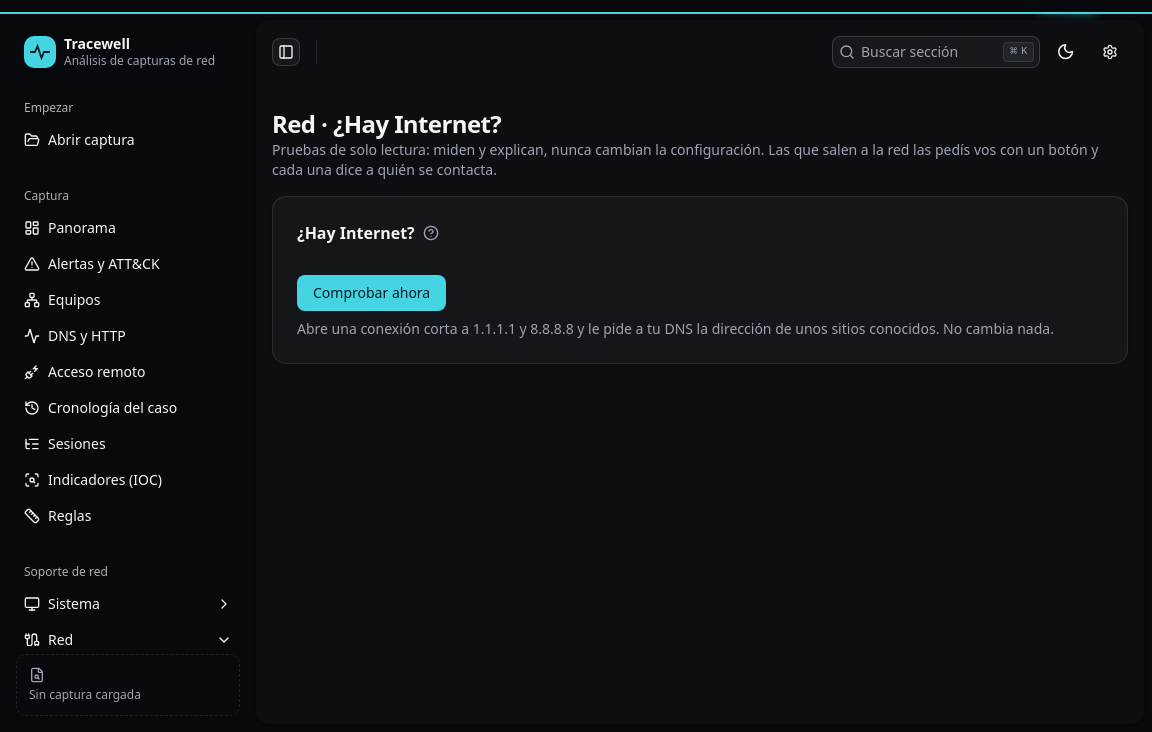
Test: Soporte de red › internet: la prueba corre solo al apretar el botón
Expected: the text "Todo funciona" is not shown
Click the button "Comprobar ahora" at (372, 293), box top-left (297, 275), bottom-right (446, 311)
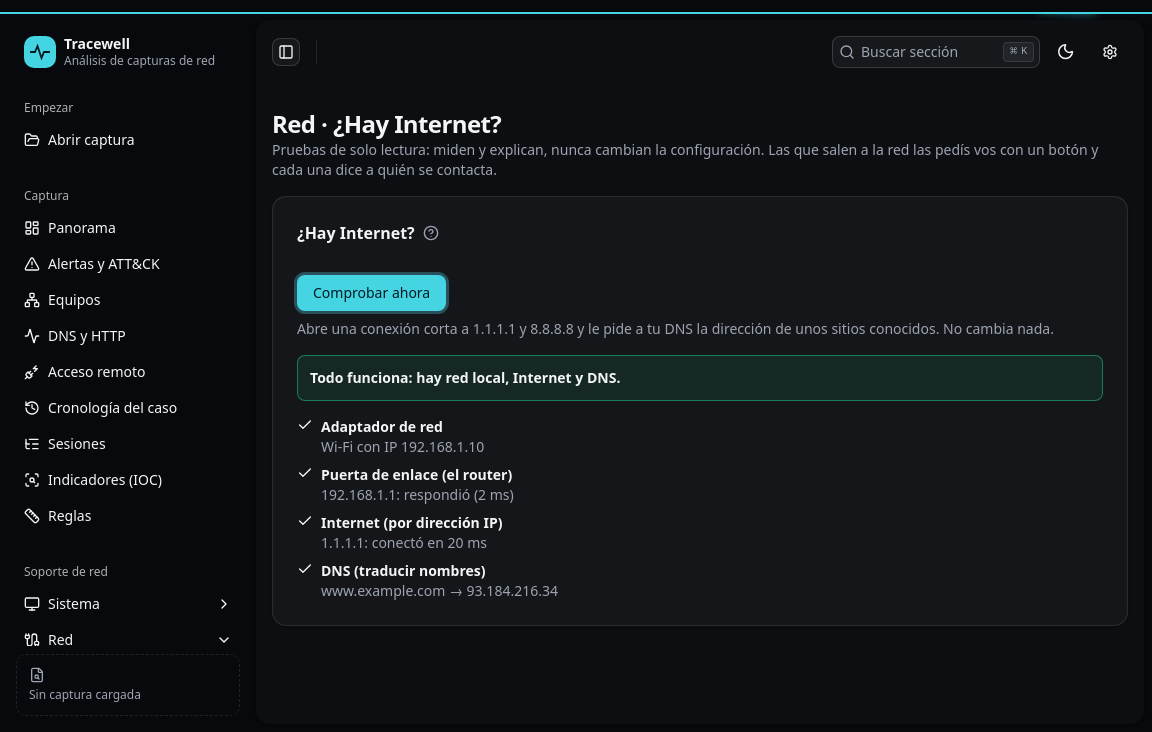
Expected: the text "Todo funciona: hay red local, Internet y DNS." is shown, top-left (310, 368), bottom-right (620, 387)
Expected: the text "Adaptador de red" is shown, top-left (321, 417), bottom-right (443, 436)
